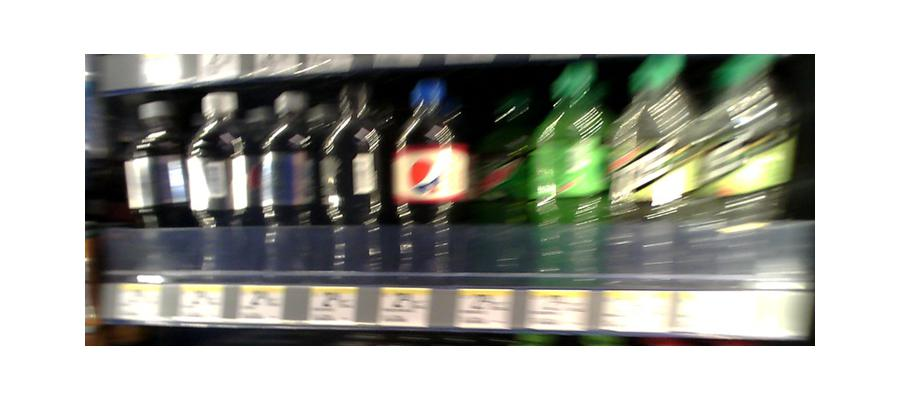bottle: (535, 55, 611, 283), (617, 51, 692, 260), (392, 77, 464, 280), (123, 101, 196, 283), (187, 91, 255, 284), (322, 74, 384, 278), (474, 88, 533, 283), (262, 97, 315, 276)
